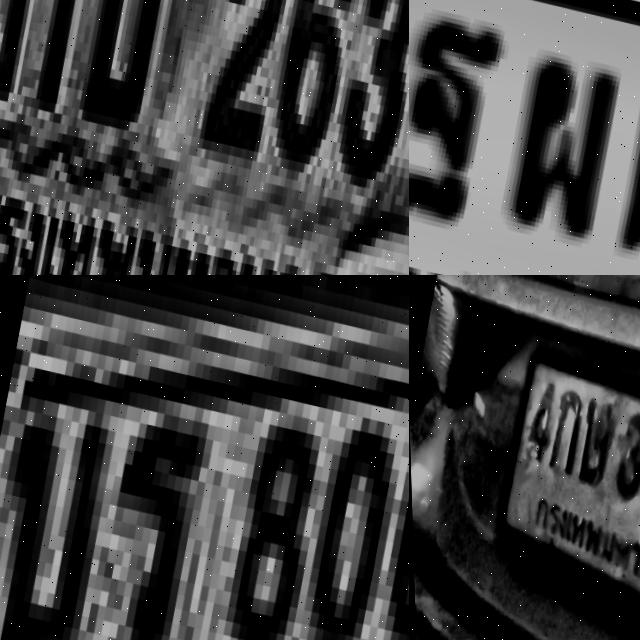license-plate: (0, 275, 409, 640), (0, 0, 409, 275), (409, 0, 640, 275), (482, 359, 640, 640)
